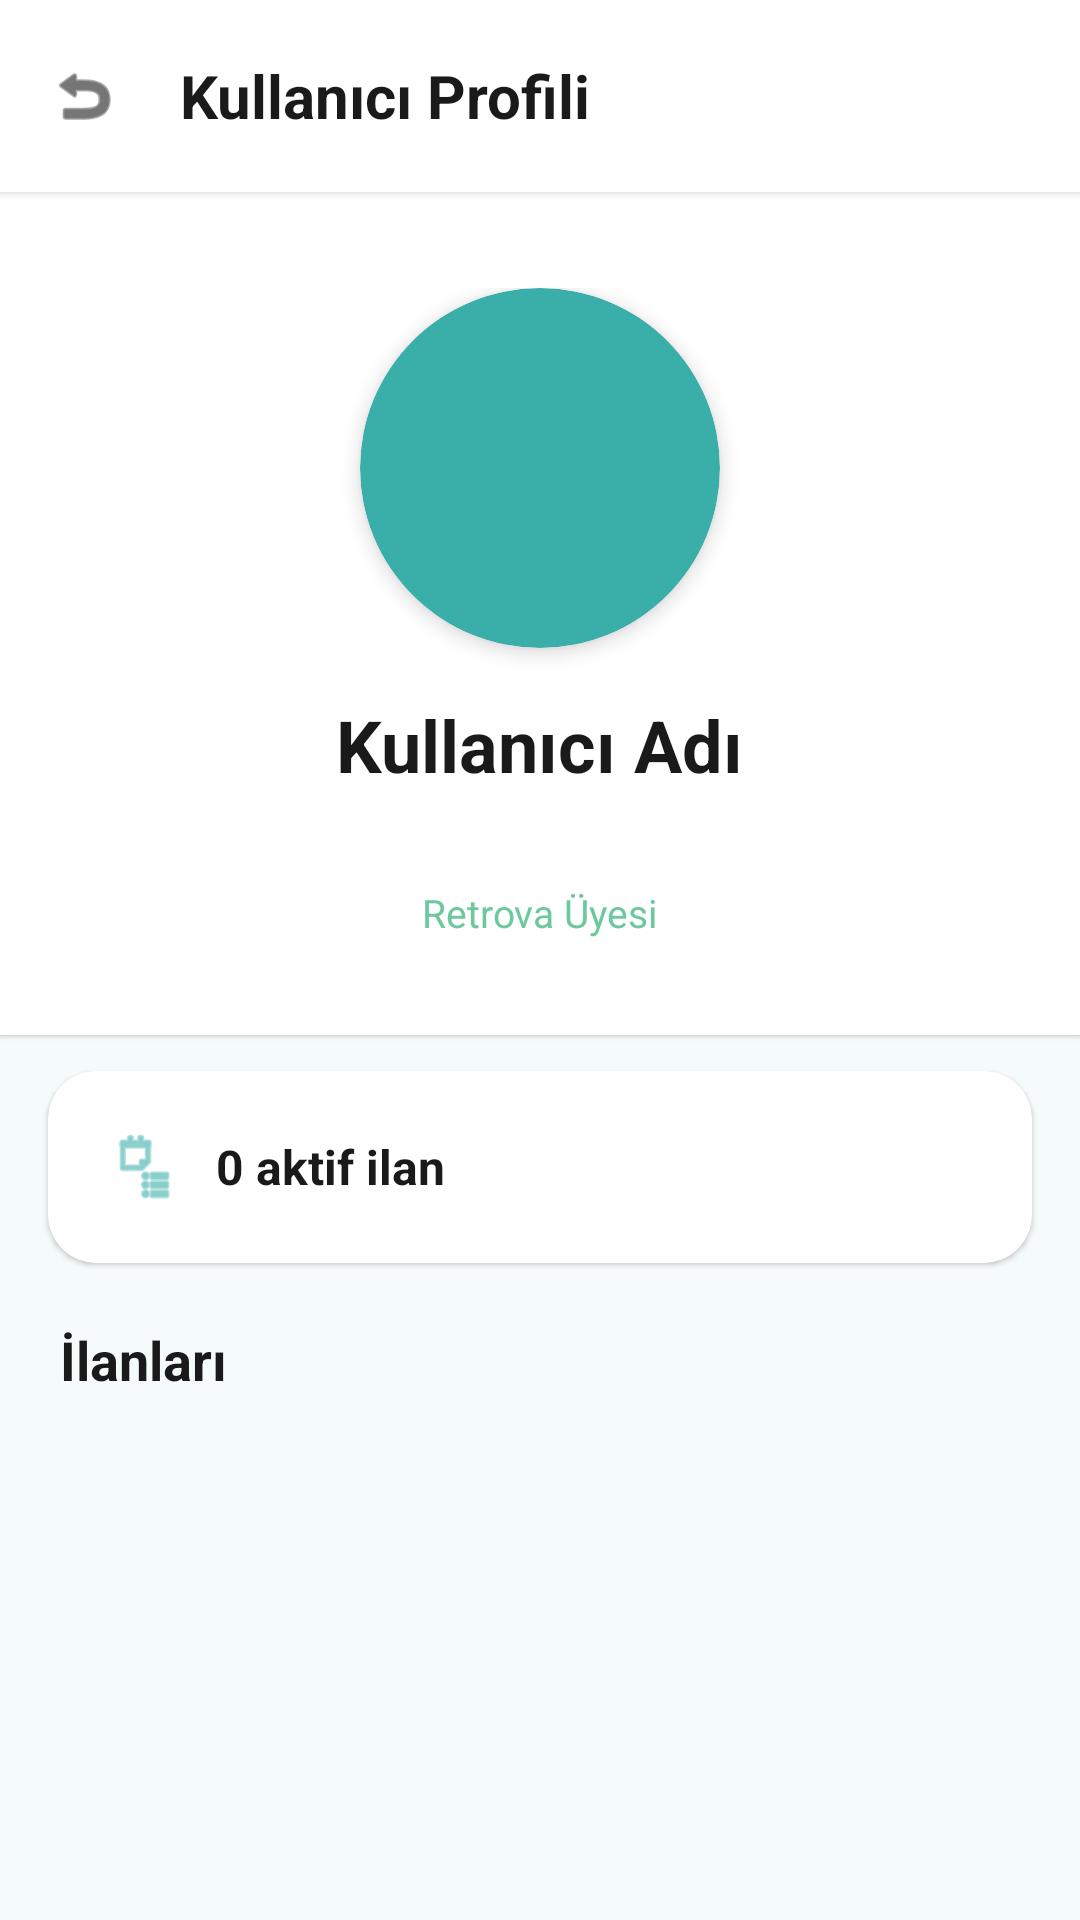

Icon bounding boxes for this 1080px×1920px phone screenshot, format bbox=(x1, y1, x2, y2):
agenda: bbox=(119, 1135, 170, 1199)
Geri: bbox=(59, 73, 111, 120)
